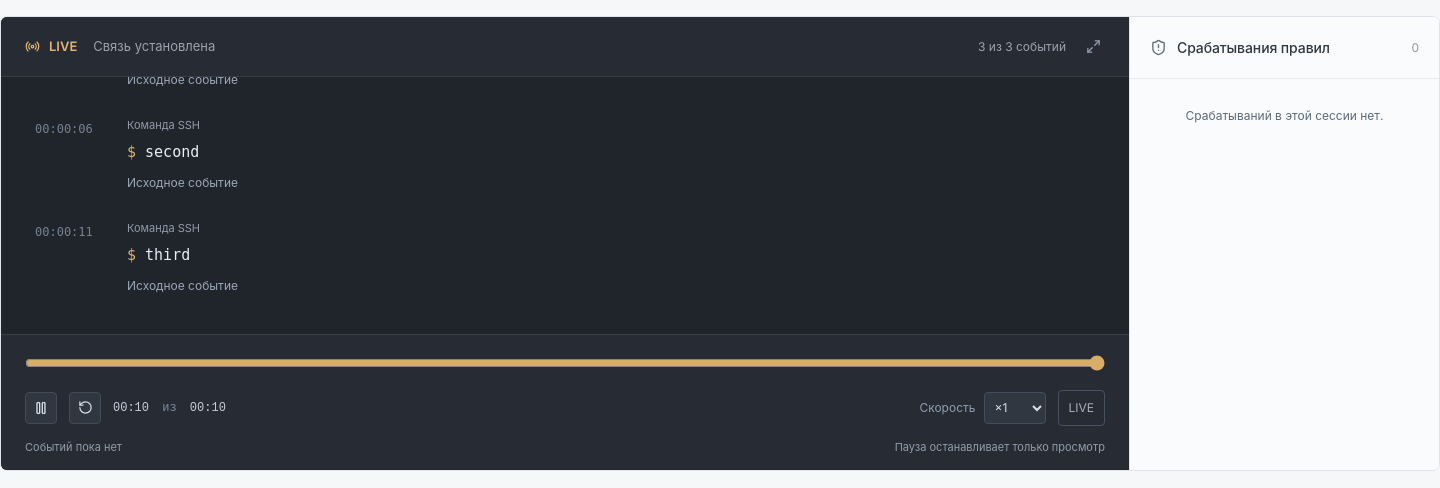
Test: session player interactions › replays at the selected speed, seeks by time and pauses without moving
(page scrolled)
Click the button named "Воспроизвести с начала" at [85, 408], box [69, 392, 101, 424]
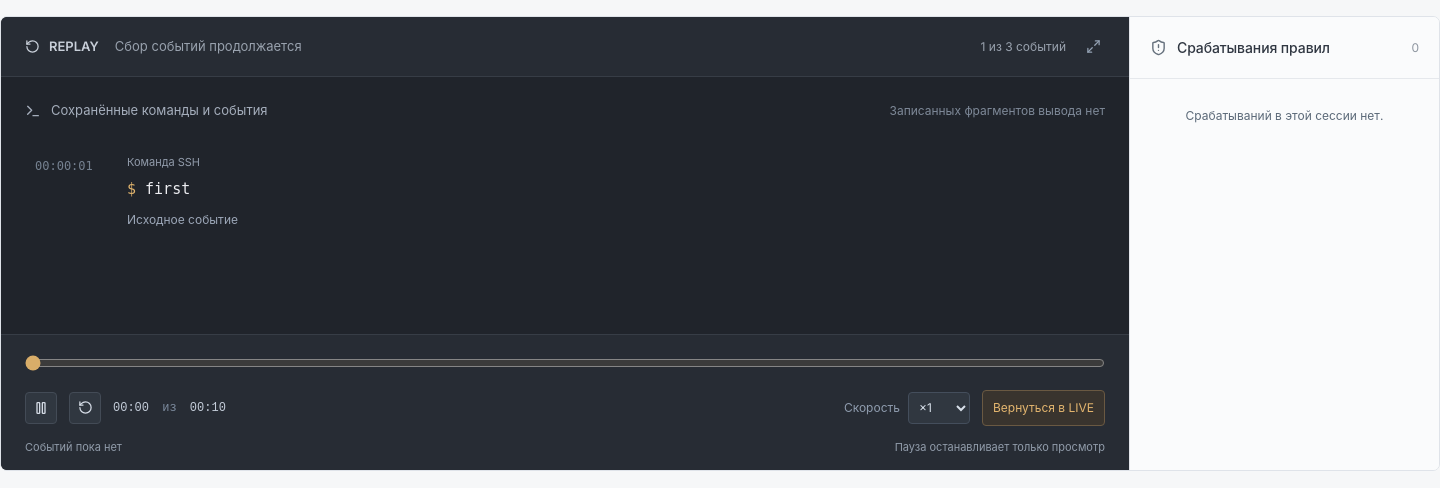
Select "×2" in the dropdown named "Скорость воспроизведения" at [939, 408], box [908, 392, 970, 424]
Wait 2500 ms
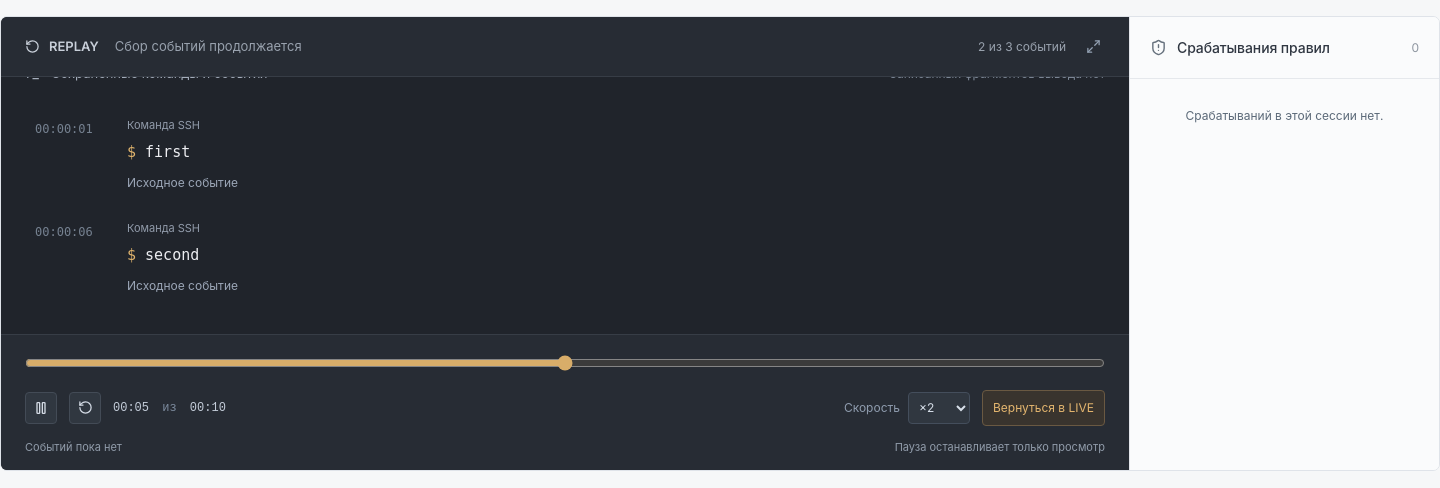
Expected: the text "third" is not shown
Result: the text "second" is shown at [145, 246, 199, 264]
Click the button named "Приостановить воспроизведение" at [41, 408], box [25, 392, 57, 424]
Wait 10000 ms
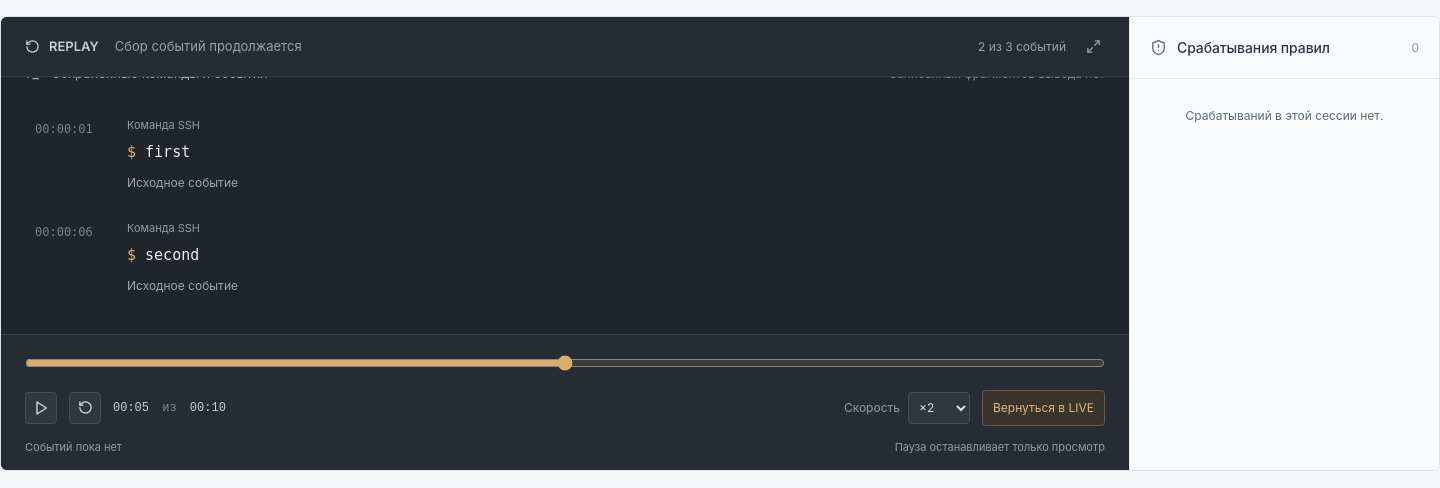
Expected: the text "third" is not shown
Set the slider named "Позиция воспроизведения" to "10000" at [1097, 362], box [25, 352, 1105, 372]
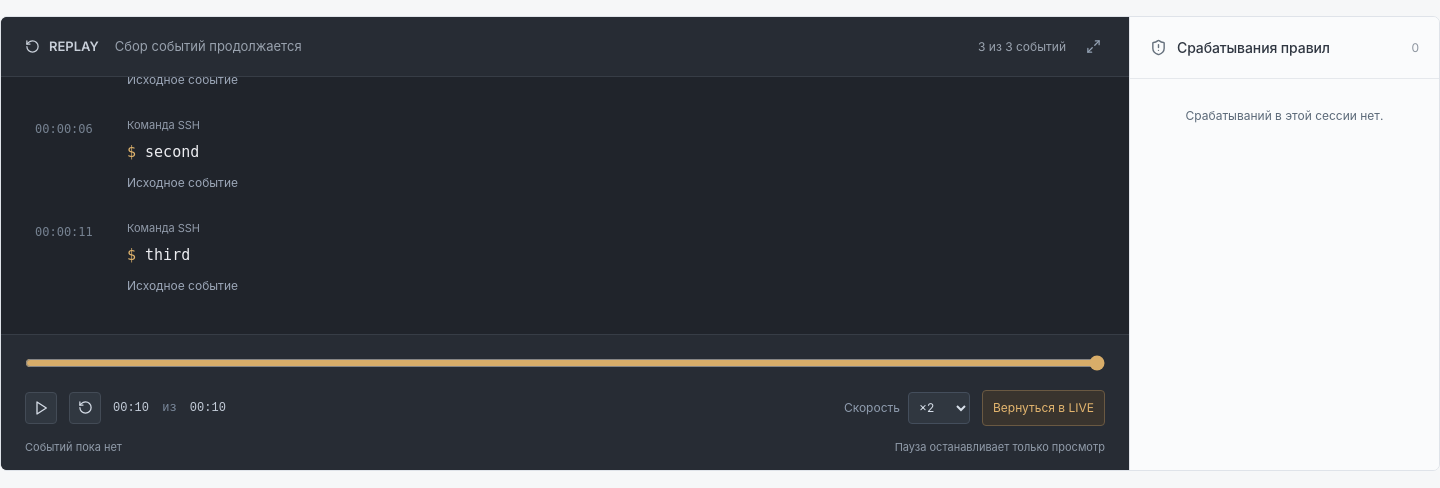
Result: the text "third" is shown at [145, 246, 190, 264]
